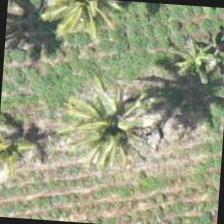Kelapa_Sawit: (60, 74, 156, 170), (154, 7, 223, 104), (0, 99, 54, 193), (37, 0, 131, 50)
